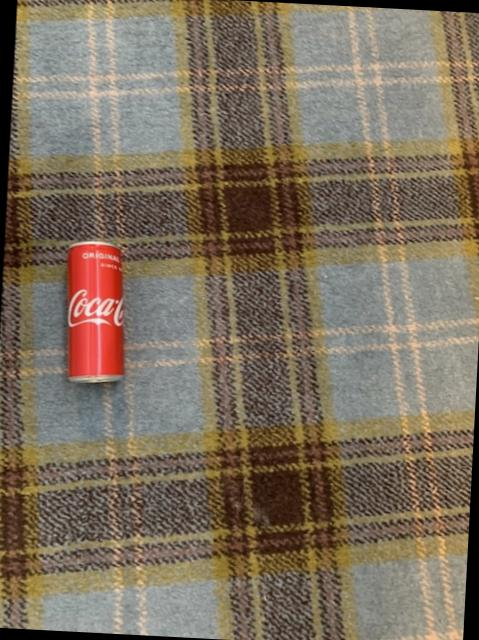metal: (68, 243, 124, 383)
